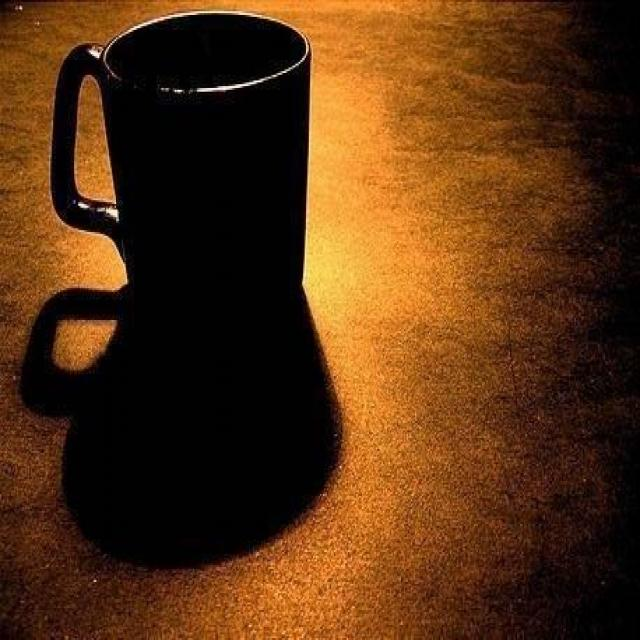cup-handle: (49, 11, 312, 311)
